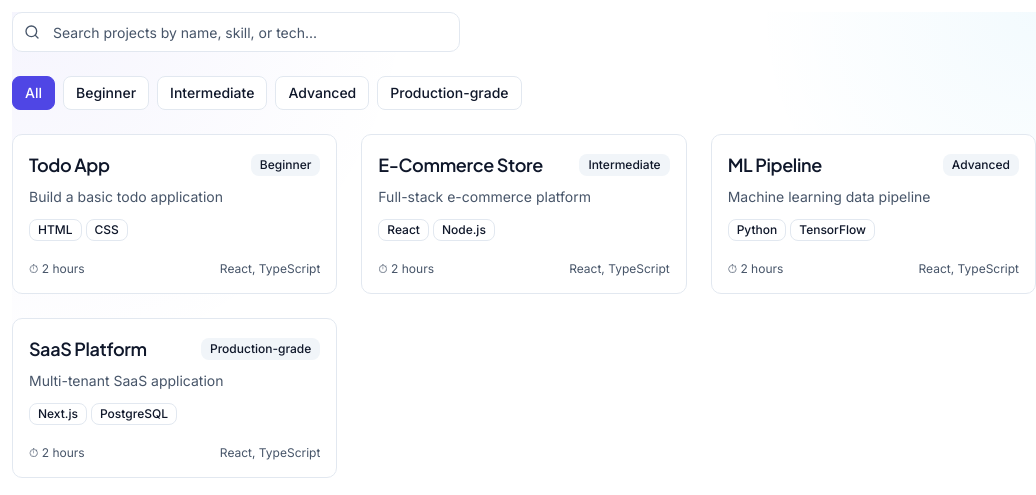
Scenario: ProjectsHub › Skill-level filtering (Req 8.3, 8.4) › filters to show only Advanced projects
The width and height of the screenshot is (1036, 495).
Click the button "Advanced": (322, 93) [275,76,369,110]
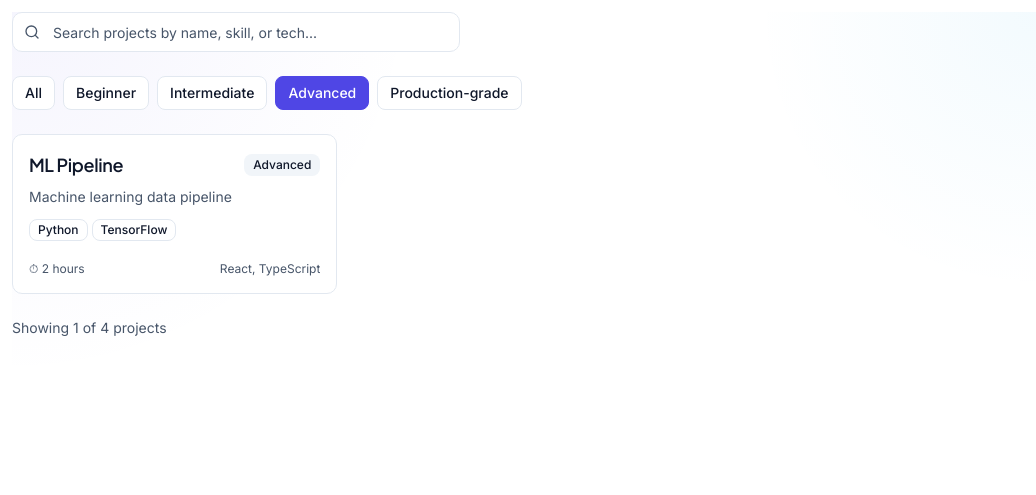
Check: the heading "ML Pipeline" is shown, box [29,151,123,179]
Check: the link "Todo App" is gone
Check: the link "E-Commerce Store" is gone
